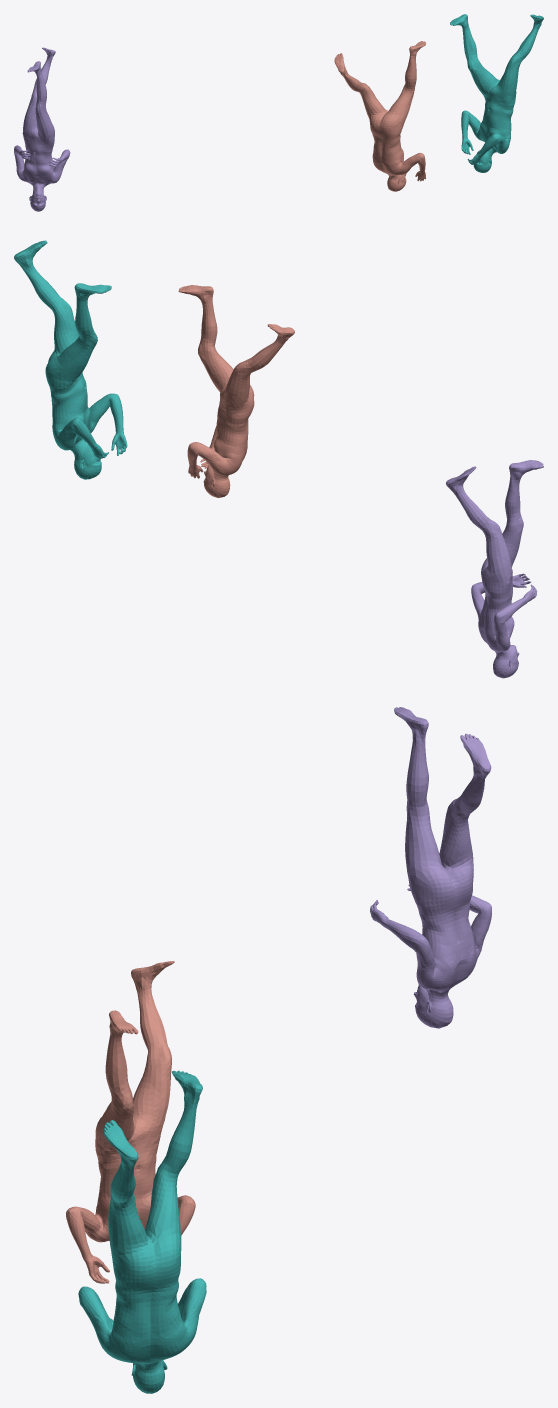
File: all_people_native_world.glb
The picture shows the model from 3 angles, top to bottom: view 1: azimuth 30°, elevation 25°; view 2: azimuth 150°, elevation 25°; view 3: azimuth 270°, elevation 25°; orthographic projection. The views are drawn at different scales.
Visible parts, largest first — view 1: persistent_id_1_slot_0, persistent_id_0_slot_1, persistent_id_2_slot_2; view 2: persistent_id_1_slot_0, persistent_id_2_slot_2, persistent_id_0_slot_1; view 3: persistent_id_1_slot_0, persistent_id_2_slot_2, persistent_id_0_slot_1.
Boxes of the visible parts, left/top/right/bottom form: persistent_id_1_slot_0: left=450, top=14, right=543, bottom=172; persistent_id_0_slot_1: left=334, top=41, right=425, bottom=191; persistent_id_2_slot_2: left=14, top=47, right=70, bottom=211; persistent_id_1_slot_0: left=14, top=240, right=127, bottom=479; persistent_id_2_slot_2: left=446, top=460, right=543, bottom=678; persistent_id_0_slot_1: left=178, top=285, right=294, bottom=497; persistent_id_1_slot_0: left=78, top=1070, right=206, bottom=1393; persistent_id_2_slot_2: left=370, top=707, right=491, bottom=1028; persistent_id_0_slot_1: left=66, top=961, right=195, bottom=1283.
Size of the model in its own units: 5.32 by 1.75 by 2.19.
